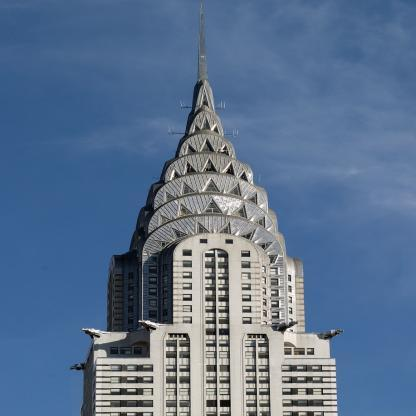Building Outline: (69, 0, 344, 416)
Deco: (314, 329, 344, 343), (138, 320, 174, 331), (80, 328, 111, 339), (276, 321, 299, 335)
Facade: (107, 258, 305, 416), (239, 171, 248, 182)
Floor: (96, 361, 337, 373), (96, 374, 337, 385), (96, 398, 337, 408), (96, 386, 337, 396), (96, 409, 337, 416), (94, 333, 150, 360), (150, 349, 284, 360), (150, 338, 284, 348), (150, 327, 284, 337), (284, 335, 330, 360), (173, 305, 261, 315), (173, 293, 261, 303), (173, 282, 261, 292), (173, 271, 261, 281), (173, 260, 261, 269), (173, 316, 261, 325)
Floor Slab: (96, 396, 337, 398), (96, 408, 337, 410), (150, 325, 284, 327), (96, 385, 337, 386), (96, 373, 337, 374), (96, 360, 337, 361), (173, 314, 261, 316), (173, 291, 261, 293), (173, 269, 261, 271), (150, 348, 284, 349), (150, 337, 284, 338), (173, 303, 261, 304), (173, 281, 261, 282), (173, 259, 261, 260)
Top Floor: (173, 233, 261, 259)
Window: (202, 198, 222, 213), (203, 177, 220, 192), (170, 227, 189, 239), (178, 202, 193, 217), (200, 138, 215, 152), (233, 204, 247, 218), (181, 181, 195, 195), (202, 158, 216, 172), (239, 229, 256, 240), (196, 221, 210, 234), (228, 182, 241, 196), (217, 222, 231, 234), (184, 160, 196, 174), (153, 240, 170, 249), (201, 115, 211, 130), (201, 88, 209, 106), (224, 162, 234, 176), (160, 214, 171, 226), (185, 143, 197, 154), (218, 144, 229, 156), (257, 242, 273, 250), (165, 191, 175, 203), (255, 217, 265, 228), (248, 193, 257, 205), (171, 168, 179, 180), (218, 249, 228, 258), (205, 249, 215, 257), (312, 365, 323, 372), (281, 365, 292, 372), (143, 365, 154, 372), (143, 376, 154, 383), (143, 388, 154, 395), (143, 400, 154, 407), (259, 388, 270, 395), (179, 400, 190, 407), (179, 388, 190, 395), (179, 365, 190, 372), (218, 306, 229, 313), (205, 317, 216, 324), (121, 347, 132, 354), (206, 400, 217, 407), (297, 365, 307, 372), (313, 377, 323, 384), (282, 377, 292, 384), (313, 388, 323, 395), (282, 388, 292, 395), (298, 388, 308, 395), (283, 400, 293, 407), (298, 400, 308, 407), (111, 365, 121, 372), (127, 365, 137, 372), (111, 376, 121, 383), (111, 388, 121, 395), (127, 388, 137, 395), (111, 400, 121, 407), (127, 400, 137, 407), (246, 365, 256, 372), (259, 365, 269, 372), (247, 388, 257, 395), (167, 388, 177, 395), (167, 365, 177, 372), (206, 306, 216, 313), (219, 317, 229, 324), (220, 365, 230, 372), (206, 365, 216, 372), (220, 388, 230, 395), (206, 388, 216, 395), (294, 348, 304, 355), (242, 317, 252, 324), (242, 306, 252, 313), (241, 261, 251, 268), (167, 400, 177, 407), (220, 400, 230, 407), (247, 400, 257, 407), (260, 400, 270, 407), (193, 123, 200, 133), (179, 340, 190, 346), (258, 341, 269, 347), (258, 352, 269, 358), (179, 377, 190, 383), (179, 352, 190, 358), (218, 262, 229, 268), (218, 273, 229, 279), (218, 284, 229, 290), (218, 295, 229, 301), (205, 329, 216, 335), (219, 340, 230, 346), (219, 352, 230, 358), (298, 377, 307, 384), (314, 400, 323, 407), (127, 376, 136, 383), (183, 317, 192, 324), (183, 306, 192, 313), (183, 294, 192, 301), (183, 283, 192, 290), (212, 125, 219, 134), (167, 340, 177, 346), (246, 341, 256, 347), (246, 352, 256, 358), (246, 377, 256, 383), (259, 377, 269, 383), (167, 377, 177, 383), (167, 352, 177, 358), (205, 262, 215, 268), (205, 273, 215, 279), (205, 284, 215, 290), (205, 295, 215, 301), (219, 329, 229, 335), (206, 340, 216, 346), (206, 352, 216, 358), (220, 377, 230, 383), (206, 377, 216, 383), (241, 273, 251, 279), (182, 250, 192, 256), (134, 347, 142, 354), (270, 268, 278, 275), (271, 301, 279, 308), (271, 290, 279, 297), (149, 266, 157, 273), (149, 289, 157, 296), (298, 411, 309, 416), (219, 411, 230, 416), (241, 251, 250, 257), (242, 295, 251, 301), (242, 284, 251, 290), (183, 272, 192, 278), (183, 261, 192, 267), (314, 411, 324, 416), (283, 411, 293, 416), (247, 411, 257, 416), (260, 411, 270, 416), (206, 411, 216, 416), (307, 348, 314, 355), (285, 348, 292, 355), (111, 347, 118, 354), (272, 312, 279, 319), (271, 279, 278, 286), (149, 311, 156, 318), (149, 277, 156, 284), (149, 300, 156, 307), (143, 412, 154, 416), (180, 412, 190, 416), (111, 412, 121, 416), (127, 412, 137, 416), (225, 239, 233, 244), (167, 412, 177, 416), (200, 239, 207, 243)
Window Hole: (205, 248, 231, 416), (164, 333, 191, 416), (245, 334, 270, 416)
